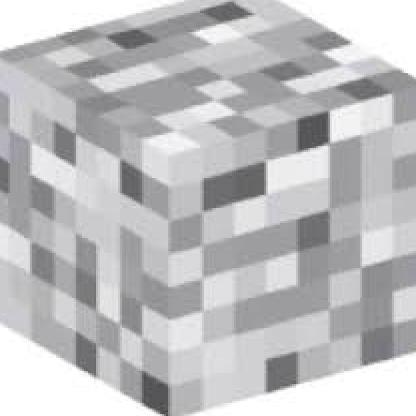Igneous_Diorite: (0, 0, 414, 414)
